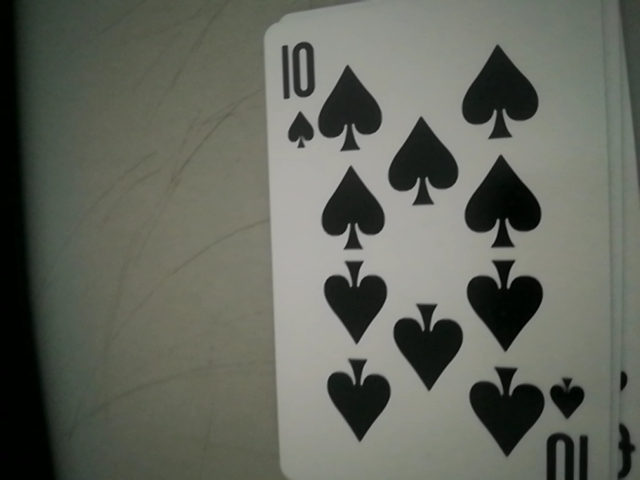ht 10: (269, 31, 331, 152)
